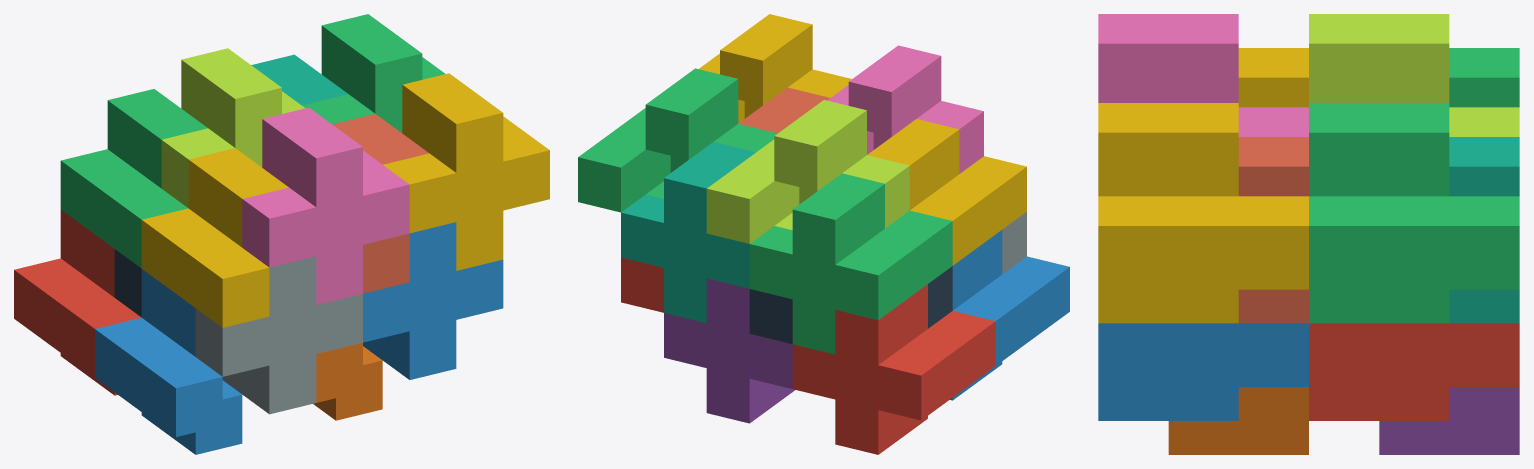
Rendered from tiling.obj.
3 renders of one model, left to right at view 1: azimuth 30°, elevation 25°; view 2: azimuth 150°, elevation 25°; view 3: azimuth 270°, elevation 25°, orthographic. The views are drawn at different scales.
Visible parts, largest first — view 1: copy_2_domain_4, copy_2_domain_8, copy_1_domain_4, copy_1_domain_2, copy_2_domain_2, copy_1_domain_3, copy_2_domain_6, copy_1_domain_1, copy_2_domain_3, copy_2_domain_7, copy_1_domain_8, copy_1_domain_6 (+2 smaller); view 2: copy_1_domain_3, copy_1_domain_1, copy_2_domain_3, copy_2_domain_7, copy_1_domain_7, copy_1_domain_4, copy_1_domain_5, copy_1_domain_2, copy_2_domain_4, copy_2_domain_8, copy_2_domain_1, copy_1_domain_8 (+2 smaller); view 3: copy_2_domain_8, copy_2_domain_7, copy_2_domain_5, copy_2_domain_6, copy_2_domain_3, copy_2_domain_4, copy_1_domain_5, copy_1_domain_6, copy_1_domain_7, copy_1_domain_8, copy_1_domain_3, copy_1_domain_4.
Boxes of the visible parts, x1,y1,x2,y2 form: copy_2_domain_4: (242, 107, 409, 304); copy_2_domain_8: (383, 73, 549, 270); copy_1_domain_4: (141, 148, 288, 327); copy_1_domain_2: (95, 269, 242, 454); copy_2_domain_2: (195, 256, 362, 414); copy_1_domain_3: (60, 89, 207, 268); copy_2_domain_6: (363, 222, 503, 379); copy_1_domain_1: (14, 209, 141, 395); copy_2_domain_3: (161, 48, 304, 207); copy_2_domain_7: (302, 14, 445, 132); copy_1_domain_8: (332, 114, 428, 293); copy_1_domain_6: (313, 342, 382, 420); copy_1_domain_3: (749, 173, 952, 354); copy_1_domain_1: (792, 284, 995, 454); copy_2_domain_3: (706, 100, 909, 243); copy_2_domain_7: (578, 68, 777, 212); copy_1_domain_7: (621, 142, 755, 323); copy_1_domain_4: (867, 119, 1026, 265); copy_1_domain_5: (664, 278, 794, 423); copy_1_domain_2: (950, 230, 1069, 400); copy_2_domain_4: (827, 45, 983, 173); copy_2_domain_8: (698, 14, 851, 123); copy_2_domain_1: (749, 266, 952, 343); copy_1_domain_8: (738, 87, 829, 133); copy_2_domain_8: (1098, 103, 1308, 323); copy_2_domain_7: (1309, 103, 1519, 323); copy_2_domain_5: (1309, 323, 1519, 420); copy_2_domain_6: (1098, 323, 1308, 420); copy_2_domain_3: (1309, 14, 1519, 136); copy_2_domain_4: (1098, 14, 1308, 136); copy_1_domain_5: (1379, 387, 1519, 454); copy_1_domain_6: (1168, 387, 1308, 454); copy_1_domain_7: (1449, 137, 1519, 323); copy_1_domain_8: (1238, 137, 1308, 323); copy_1_domain_3: (1449, 48, 1519, 107); copy_1_domain_4: (1238, 48, 1308, 107).
Bounding box in the file's own units: 8 × 6 × 6.
